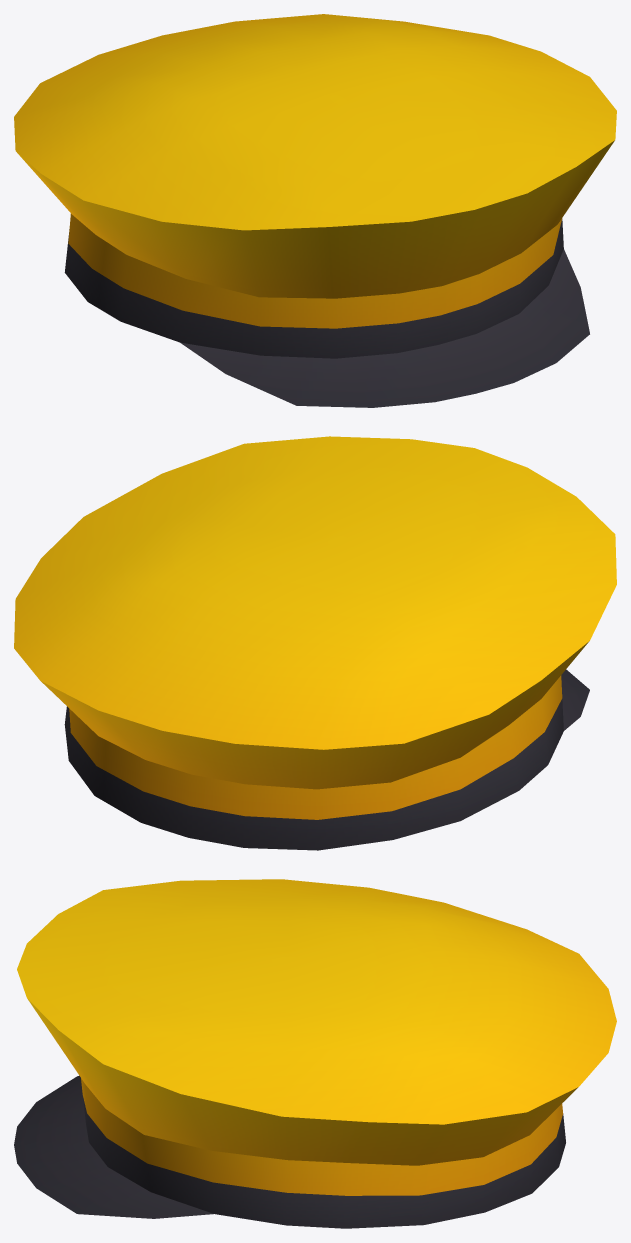
File: taser_Hat.fbx
3 views of the same model, one above another, from view 1: azimuth 30°, elevation 25°; view 2: azimuth 150°, elevation 25°; view 3: azimuth 270°, elevation 25° (orthographic). The views are drawn at different scales.
Parts seen in each view (by area): view 1: Stickman_heads_sphere.002; view 2: Stickman_heads_sphere.002; view 3: Stickman_heads_sphere.002.
Part boxes in pixels (x1=…): Stickman_heads_sphere.002: x1=14, y1=14, x2=616, y2=407; Stickman_heads_sphere.002: x1=14, y1=436, x2=616, y2=850; Stickman_heads_sphere.002: x1=14, y1=879, x2=616, y2=1228.
Bounding box in the file's own units: 0.7349 × 0.2782 × 0.7886.
Materials: 1 (1 with a texture image).
